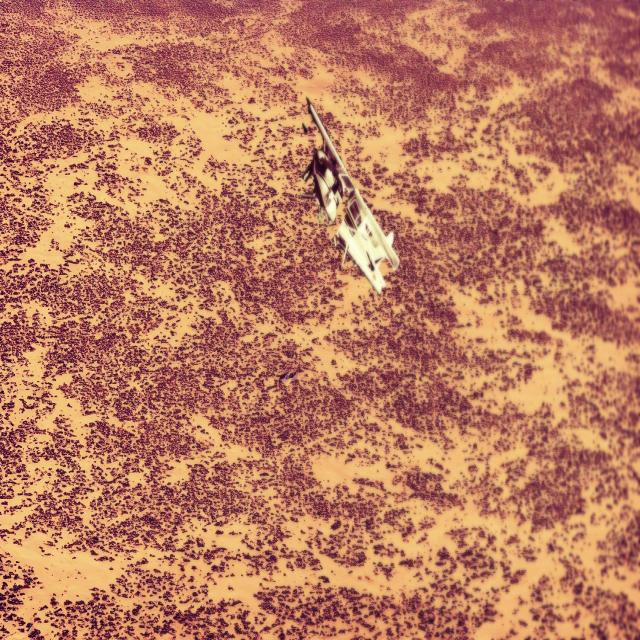airplane: (301, 95, 400, 294)
